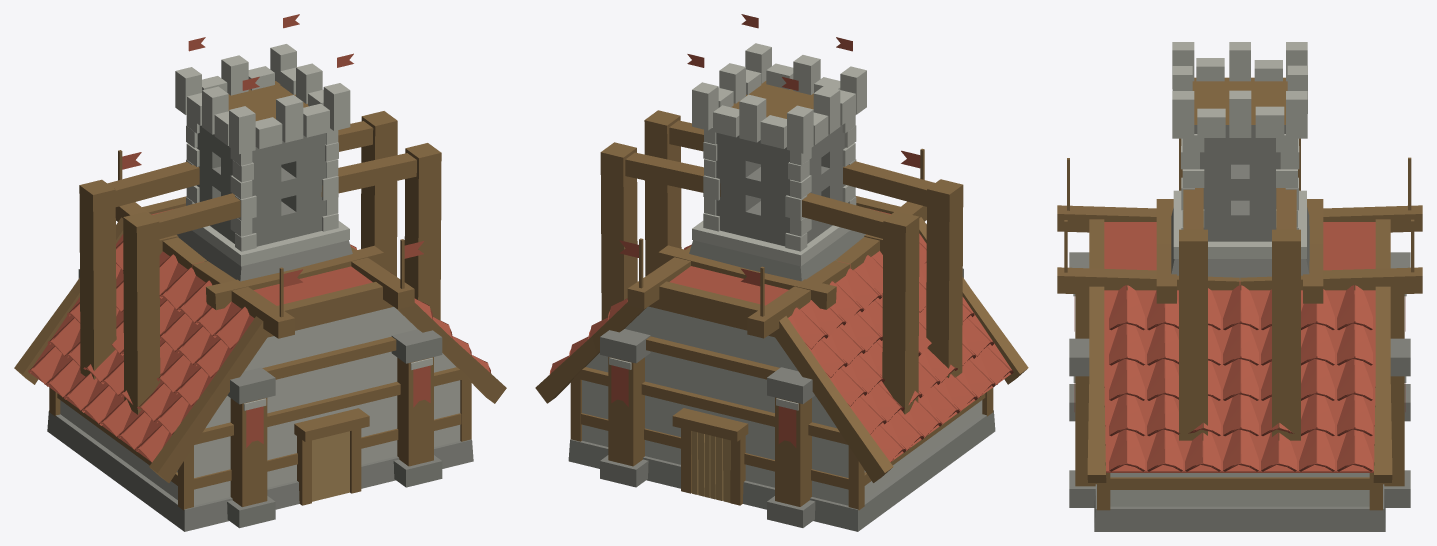
The model's file is towerhouse-second-age.glb.
3 views of the same model, side by side, from view 1: azimuth 30°, elevation 25°; view 2: azimuth 150°, elevation 25°; view 3: azimuth 270°, elevation 25° (orthographic). The views are drawn at different scales.
Parts seen in each view (by area): view 1: TowerHouse_SecondAge; view 2: TowerHouse_SecondAge; view 3: TowerHouse_SecondAge.
Part boxes in pixels (left/top/right/bottom): TowerHouse_SecondAge: left=14, top=14, right=506, bottom=531; TowerHouse_SecondAge: left=535, top=14, right=1028, bottom=531; TowerHouse_SecondAge: left=1057, top=42, right=1422, bottom=531.
Bounding box in the file's own units: 1.37 × 1.49 × 1.17.
